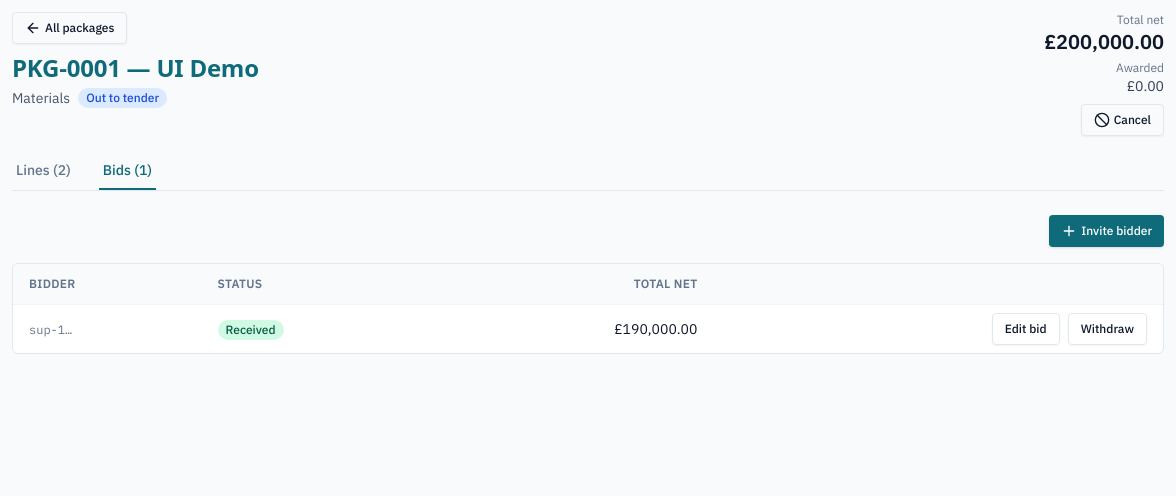
Lines tab read-only for non-draft status (no Add line button)
Non-draft starts on 'bids' tab — click Lines to switch.
Click the button with test id "package-tab-lines". click: (43, 175)
box: x1=12 y1=160 x2=75 y2=190
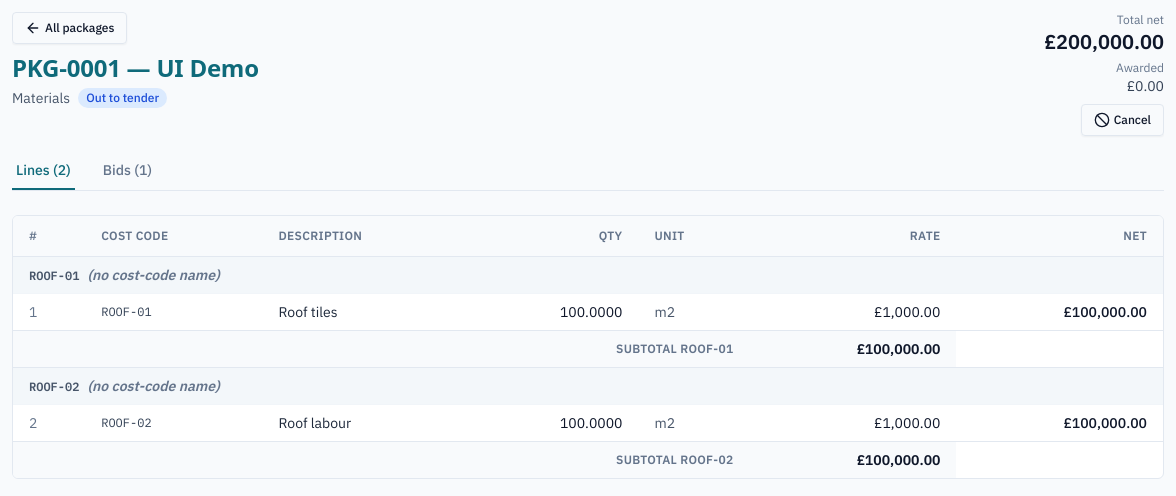
Expected: the element with test id "package-lines-tab" is shown, x1=12 y1=215 x2=1164 y2=479
